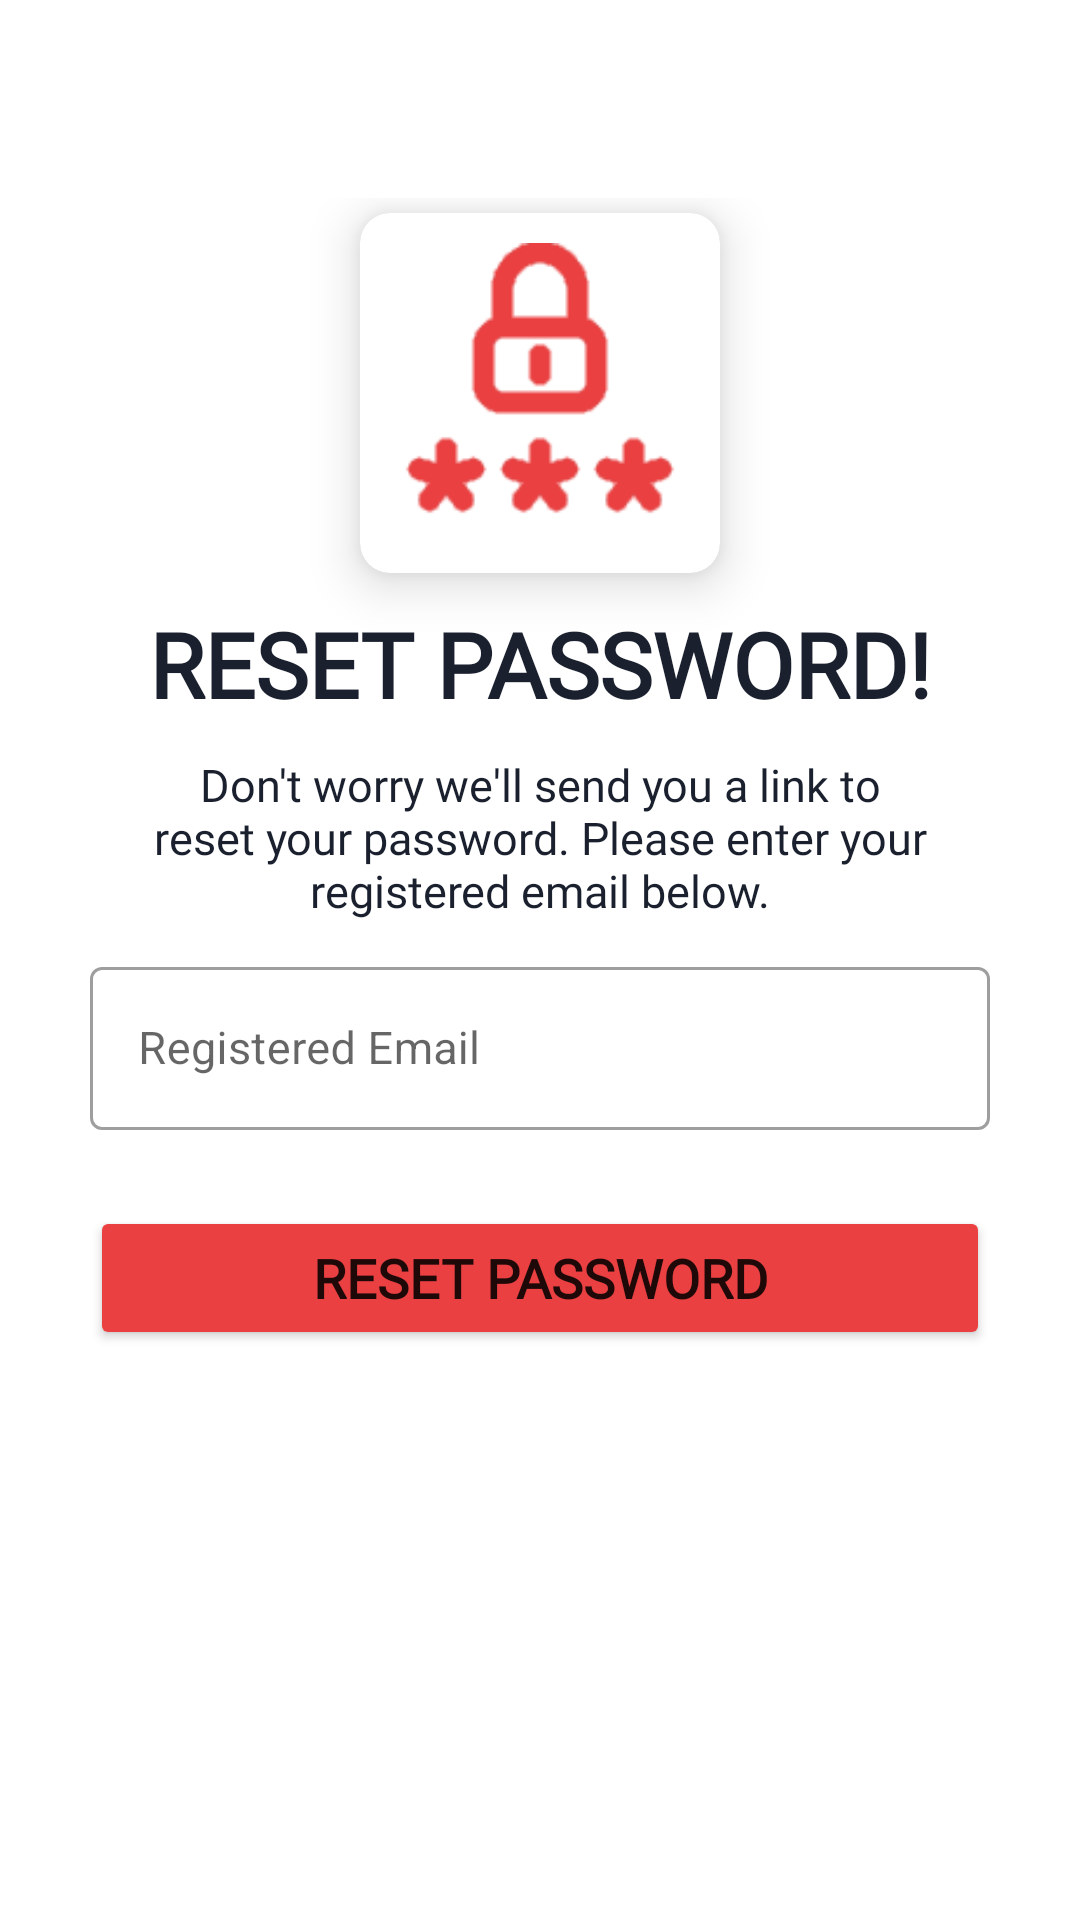

Point at icon controls on the screen. Image size 1080 × 1920, points as (x=x, y=y).
orangepassword: (x=540, y=378)
